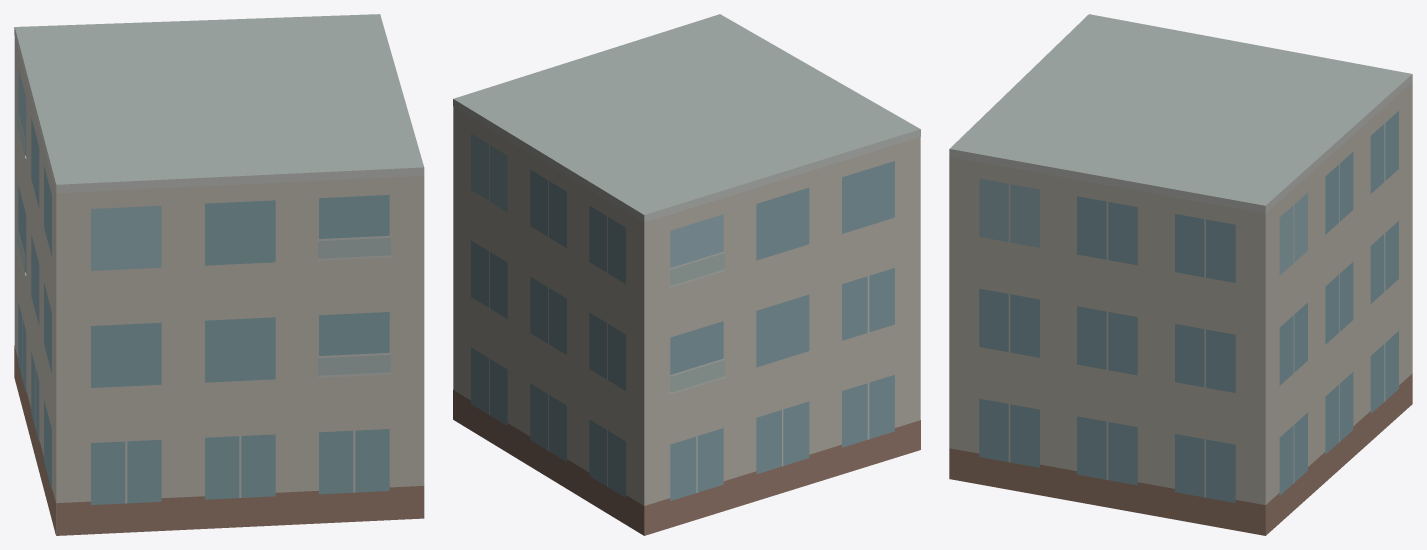
The model's file is survey-upis-32656841.glb.
3 views of the same model, side by side, from view 1: azimuth 30°, elevation 25°; view 2: azimuth 150°, elevation 25°; view 3: azimuth 270°, elevation 25° (orthographic). The views are drawn at different scales.
Visible parts, largest first — view 1: survey-upis-32656841.tmp; view 2: survey-upis-32656841.tmp; view 3: survey-upis-32656841.tmp.
Boxes of the visible parts, box(x1,y1,x2,y2) form: survey-upis-32656841.tmp: box(14, 14, 424, 535); survey-upis-32656841.tmp: box(453, 14, 920, 535); survey-upis-32656841.tmp: box(949, 14, 1412, 535).
Bounding box in the file's own units: 12.84 × 10.3 × 13.11.
